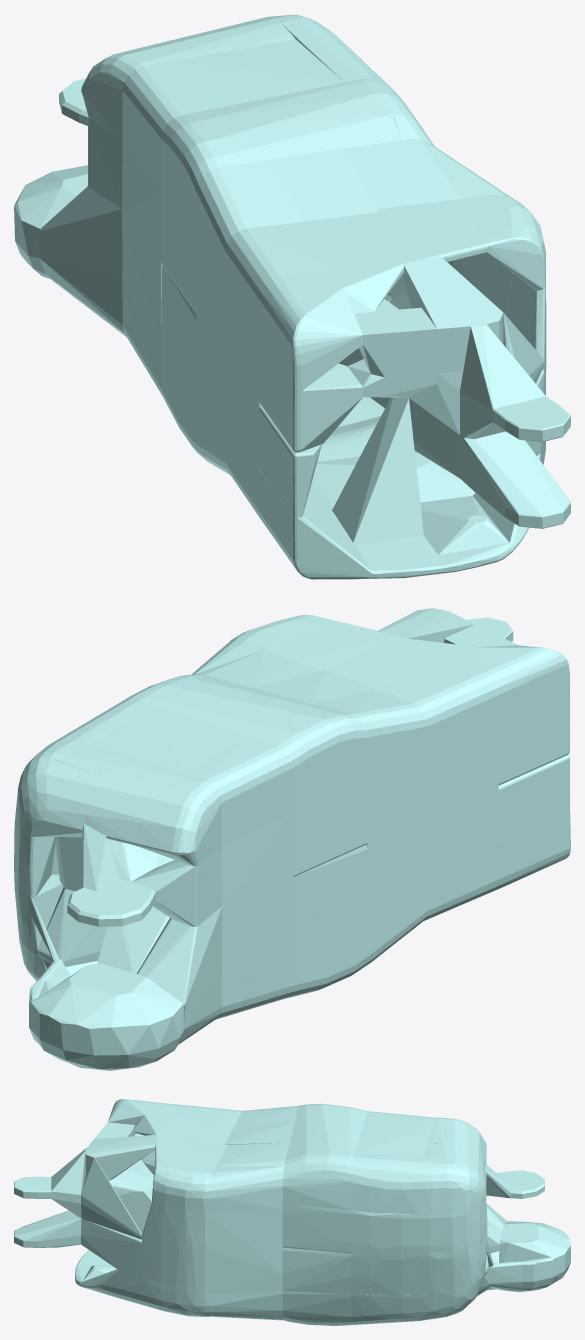
The model's file is R_CROTCH_P_LINK_mesh.dae.
3 renders of one model, top to bottom at view 1: azimuth 30°, elevation 25°; view 2: azimuth 150°, elevation 25°; view 3: azimuth 270°, elevation 25°, orthographic. The views are drawn at different scales.
Visible parts, largest first — view 1: R_CROTCH_P_LINK; view 2: R_CROTCH_P_LINK; view 3: R_CROTCH_P_LINK.
Part boxes in pixels (left/top/right/bottom): R_CROTCH_P_LINK: left=14, top=14, right=570, bottom=579; R_CROTCH_P_LINK: left=14, top=608, right=570, bottom=1070; R_CROTCH_P_LINK: left=14, top=1099, right=570, bottom=1325.
Bounding box in the file's own units: 0.1627 × 0.1401 × 0.4114.
